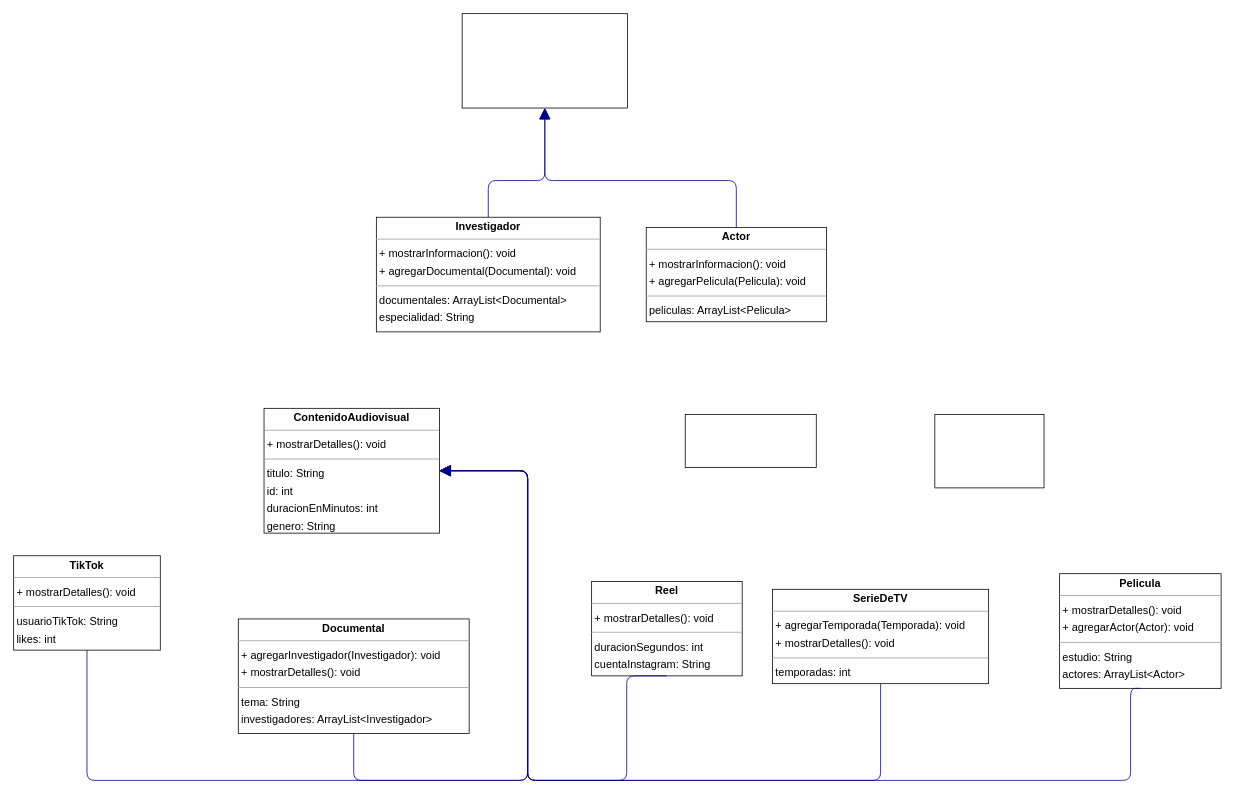
Image size: 1235x805. Some labels were removed from this diagram. Here are the shapes that lost their labels. From the top down, the centre of each, then its label:
At (x=544, y=60): "Persona + mostrarInformacion(): void edad: int nombre: String".
At (x=750, y=441): "executable + main(String[]): void".
At (x=989, y=451): "Temporada numero: int episodios: int".
